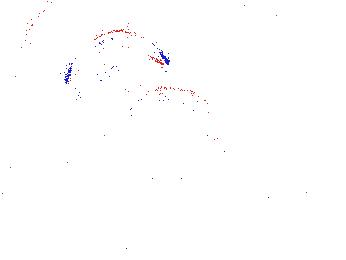moon jellyfish: (119, 87, 218, 179), (21, 1, 157, 58), (65, 30, 168, 94)
